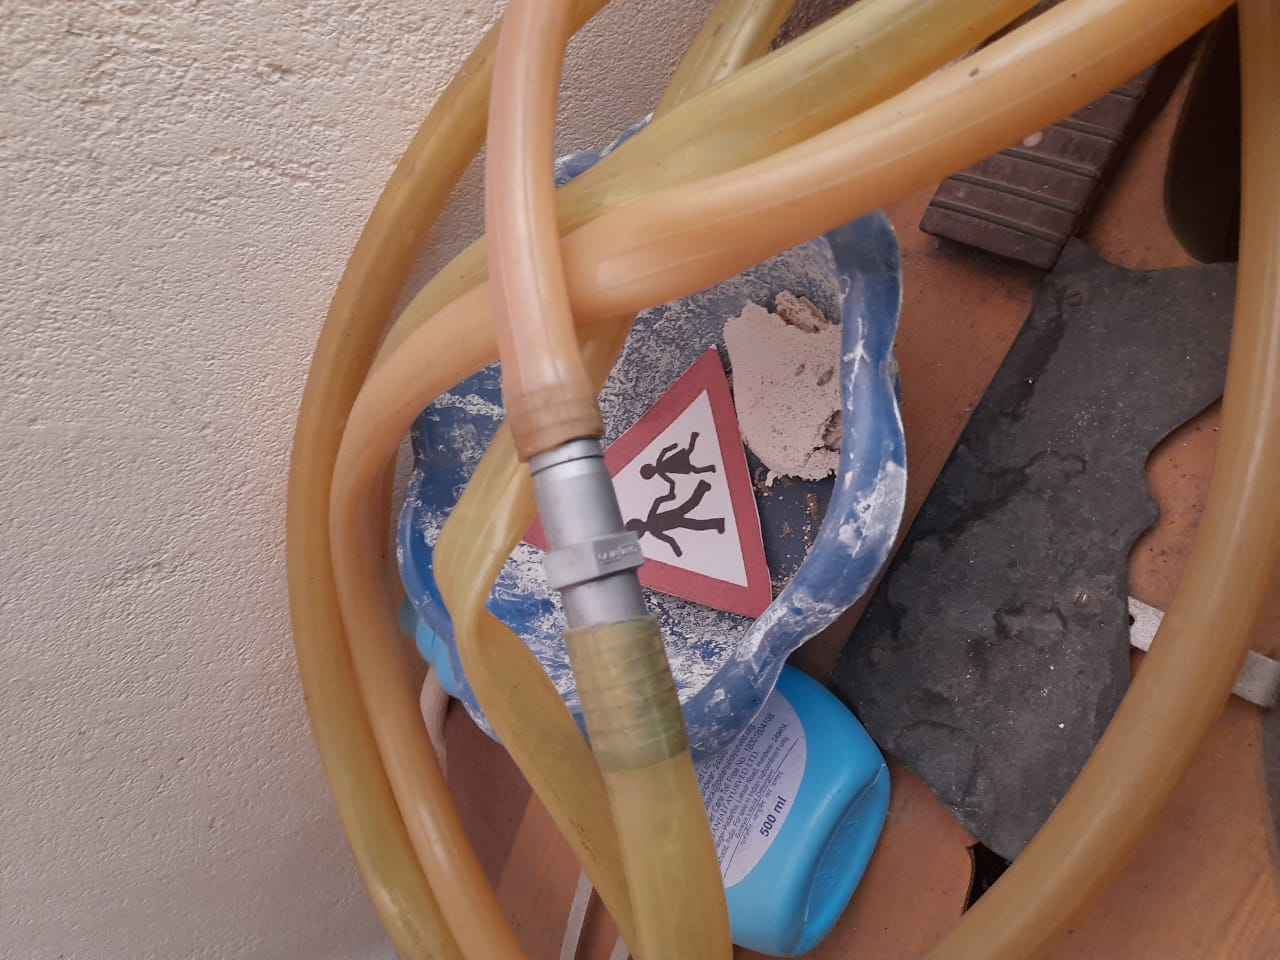SCHOOL ZONE: (536, 333, 807, 630)
